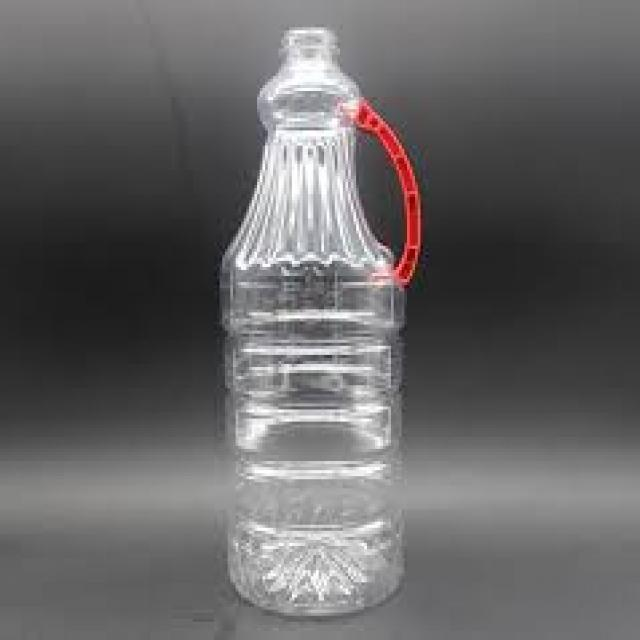Plastic: (218, 28, 420, 622)
